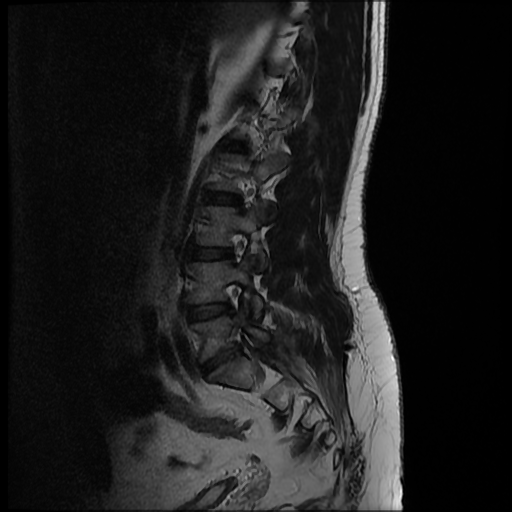RFS0: (213, 273, 250, 321), (221, 225, 255, 272)
